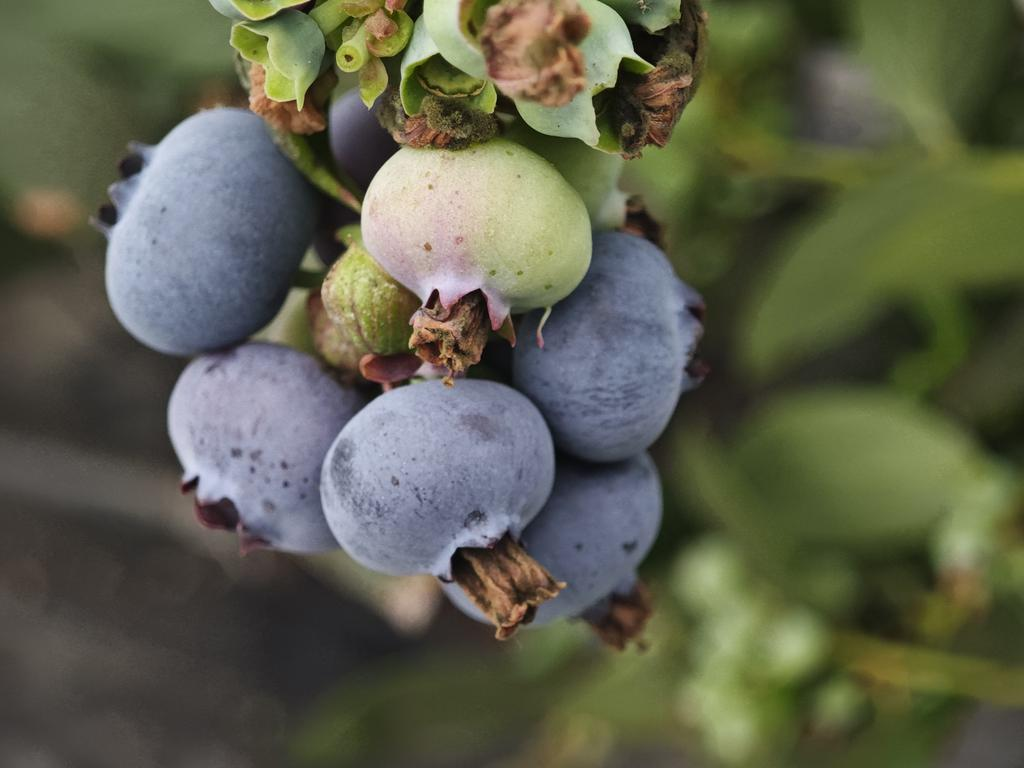RipeBlueBerry: (95, 102, 314, 359), (319, 372, 562, 603), (527, 230, 711, 473), (164, 339, 353, 562)
UnripeBlueBerry: (359, 139, 598, 335)
